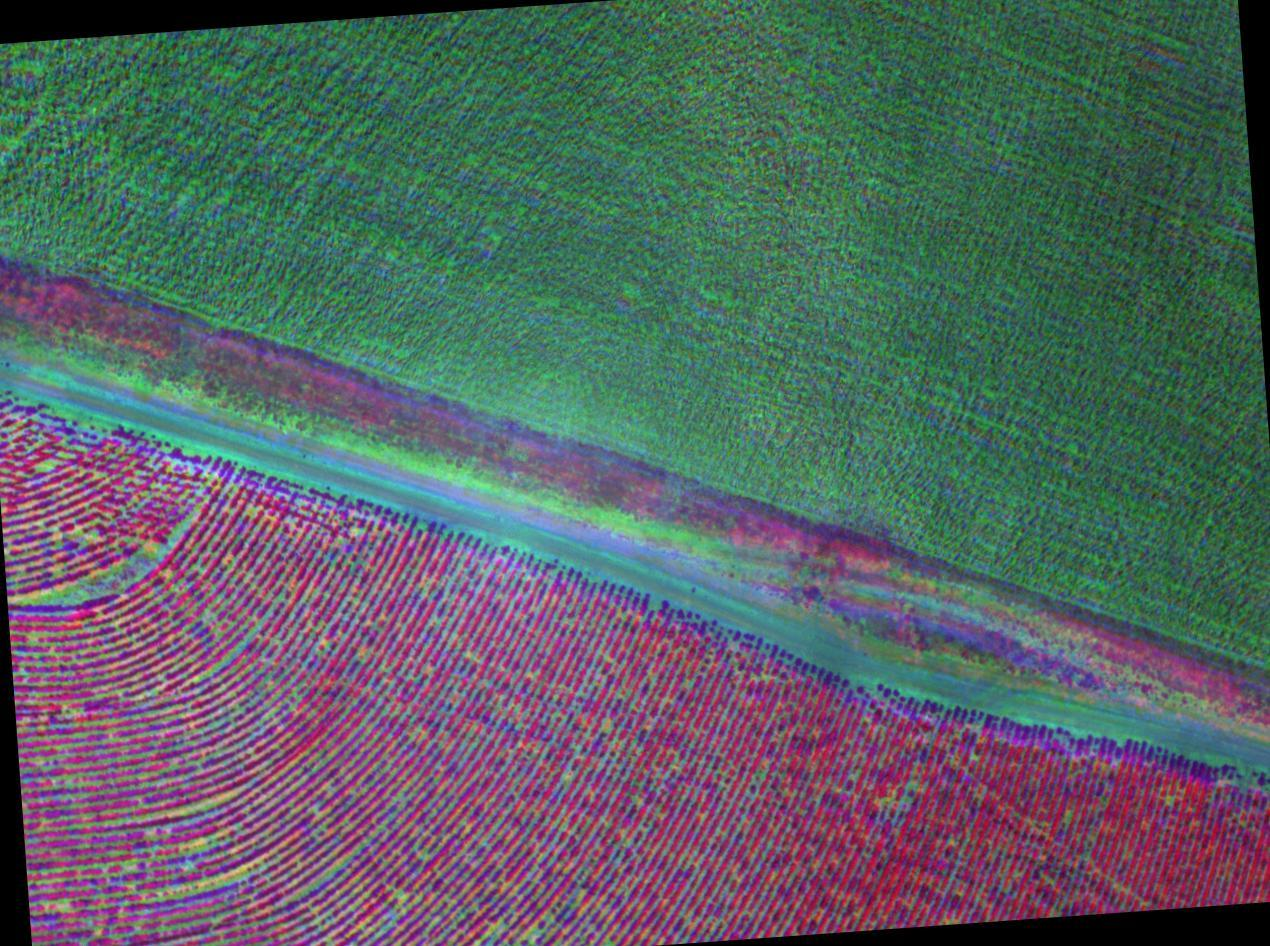dc: (18, 508, 211, 617), (186, 658, 290, 753), (291, 868, 402, 946), (141, 813, 225, 904), (471, 895, 567, 946)
